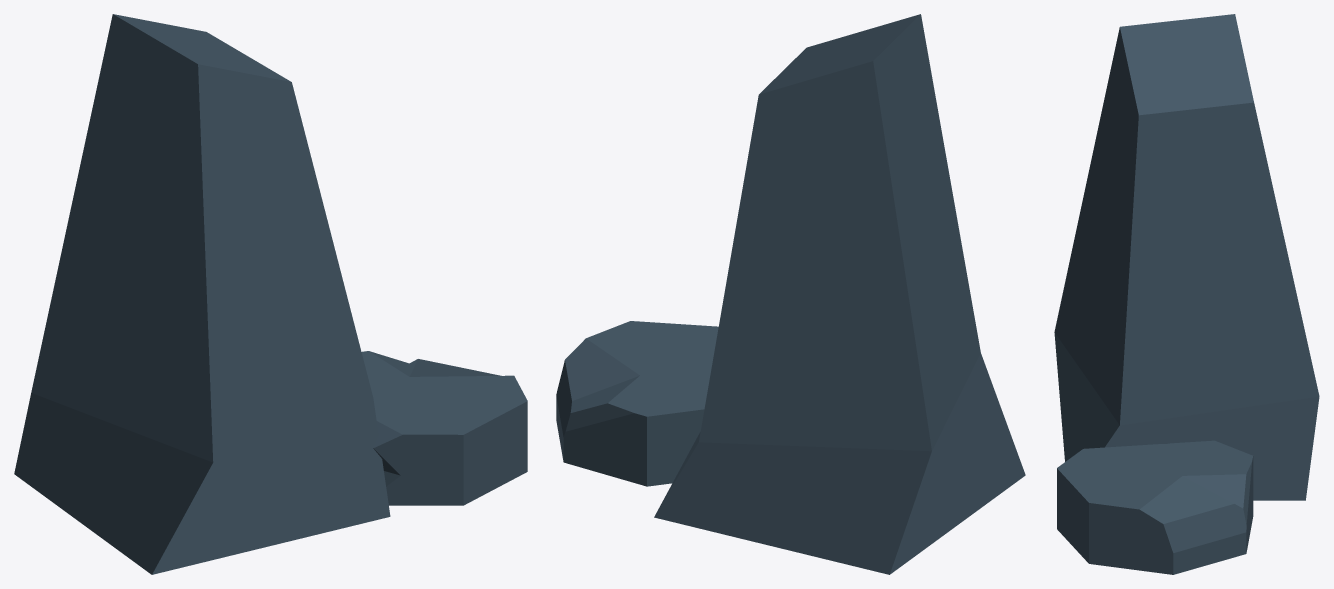
The model's file is rock-026.glb.
3 renders of one model, left to right at view 1: azimuth 30°, elevation 25°; view 2: azimuth 150°, elevation 25°; view 3: azimuth 270°, elevation 25°, orthographic. The views are drawn at different scales.
Visible parts, largest first — view 1: Rock 12_526; view 2: Rock 12_526; view 3: Rock 12_526.
Part boxes in pixels (x1=…): Rock 12_526: x1=14, y1=14, x2=527, y2=574; Rock 12_526: x1=556, y1=14, x2=1025, y2=574; Rock 12_526: x1=1054, y1=14, x2=1319, y2=574.
Size of the model in its own units: 1.37 by 1.46 by 0.8513.
